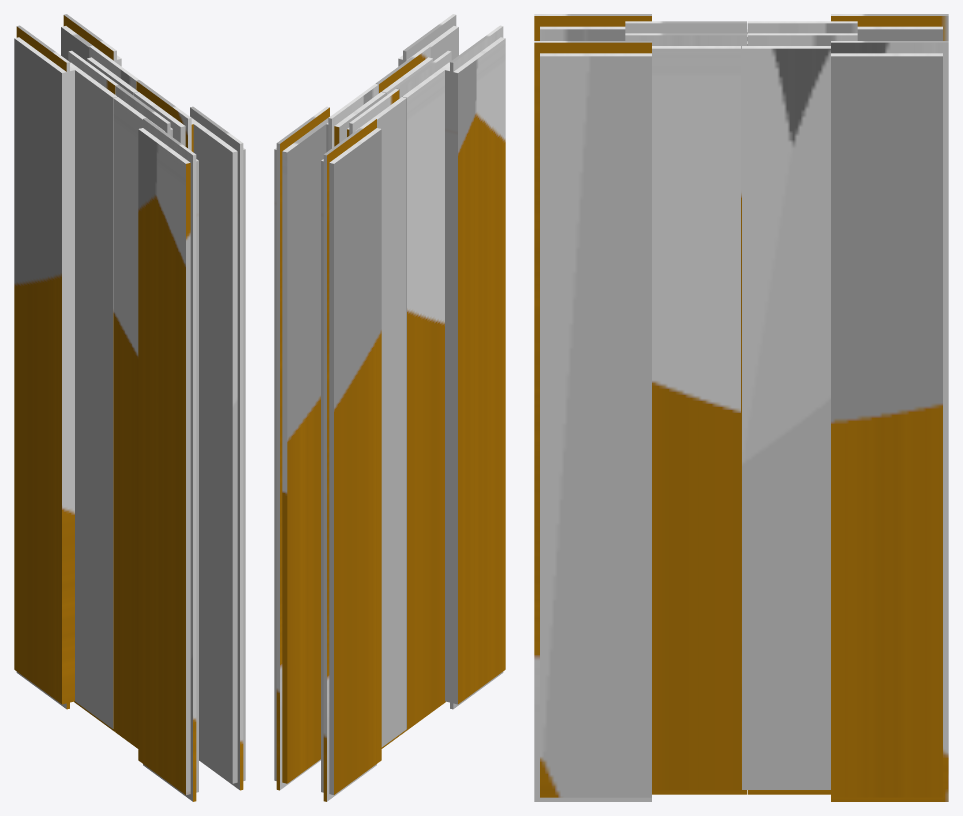
File: patro1-chodbaKratka-vytah-dvere.fbx
The picture shows the model from 3 angles, left to right: view 1: azimuth 30°, elevation 25°; view 2: azimuth 150°, elevation 25°; view 3: azimuth 270°, elevation 25°; orthographic projection. The views are drawn at different scales.
Visible parts, largest first — view 1: Vytah.Dvere.Outer.Left, Vytah.Dvere.Outer.Right, Vytah.Dvere.Inner.Right, Vytah.Dvere.Inner.Left; view 2: Vytah.Dvere.Outer.Right, Vytah.Dvere.Outer.Left, Vytah.Dvere.Inner.Left, Vytah.Dvere.Inner.Right; view 3: Vytah.Dvere.Outer.Left, Vytah.Dvere.Outer.Right, Vytah.Dvere.Inner.Left, Vytah.Dvere.Inner.Right.
Part boxes in pixels (<box>): Vytah.Dvere.Outer.Left: <box>138,106,245,801</box>; Vytah.Dvere.Outer.Right: <box>14,14,121,709</box>; Vytah.Dvere.Inner.Right: <box>68,45,138,732</box>; Vytah.Dvere.Inner.Left: <box>113,80,193,748</box>; Vytah.Dvere.Outer.Right: <box>274,106,381,801</box>; Vytah.Dvere.Outer.Left: <box>398,14,505,709</box>; Vytah.Dvere.Inner.Left: <box>376,45,451,735</box>; Vytah.Dvere.Inner.Right: <box>326,83,406,748</box>; Vytah.Dvere.Outer.Left: <box>534,14,651,801</box>; Vytah.Dvere.Outer.Right: <box>831,14,948,801</box>; Vytah.Dvere.Inner.Left: <box>625,21,746,794</box>; Vytah.Dvere.Inner.Right: <box>742,21,857,794</box>.
Bounding box in the file's own units: 19.9 × 206 × 102.
1 material, 1 textured.
